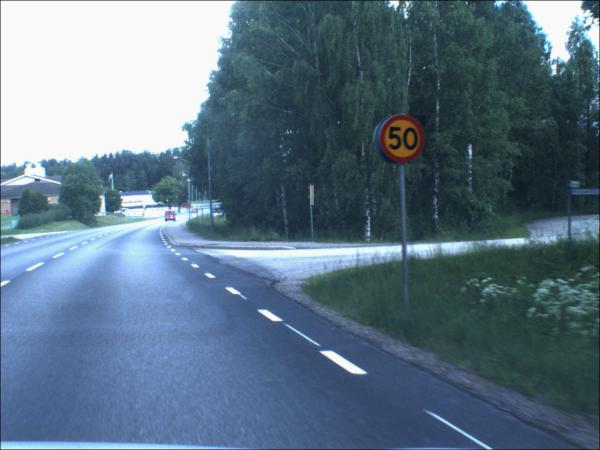50_SIGN: (381, 116, 427, 165)
GIVE_WAY: (311, 186, 316, 207)
